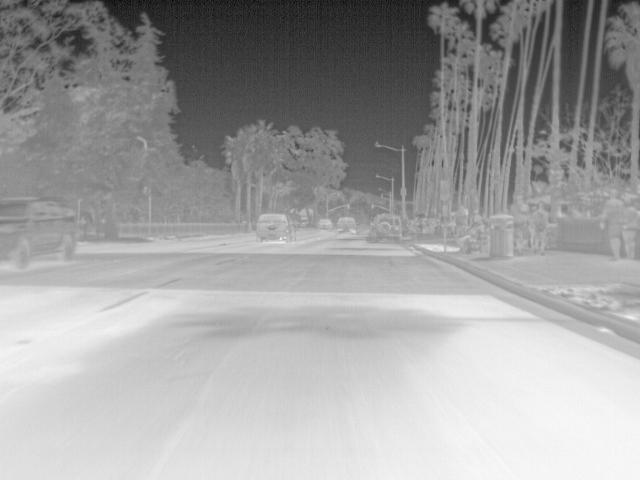car: (0, 197, 78, 269), (366, 213, 405, 245), (255, 212, 293, 244), (335, 216, 358, 234), (316, 218, 332, 230)
person: (598, 188, 623, 258), (621, 193, 639, 258), (530, 202, 550, 256)
